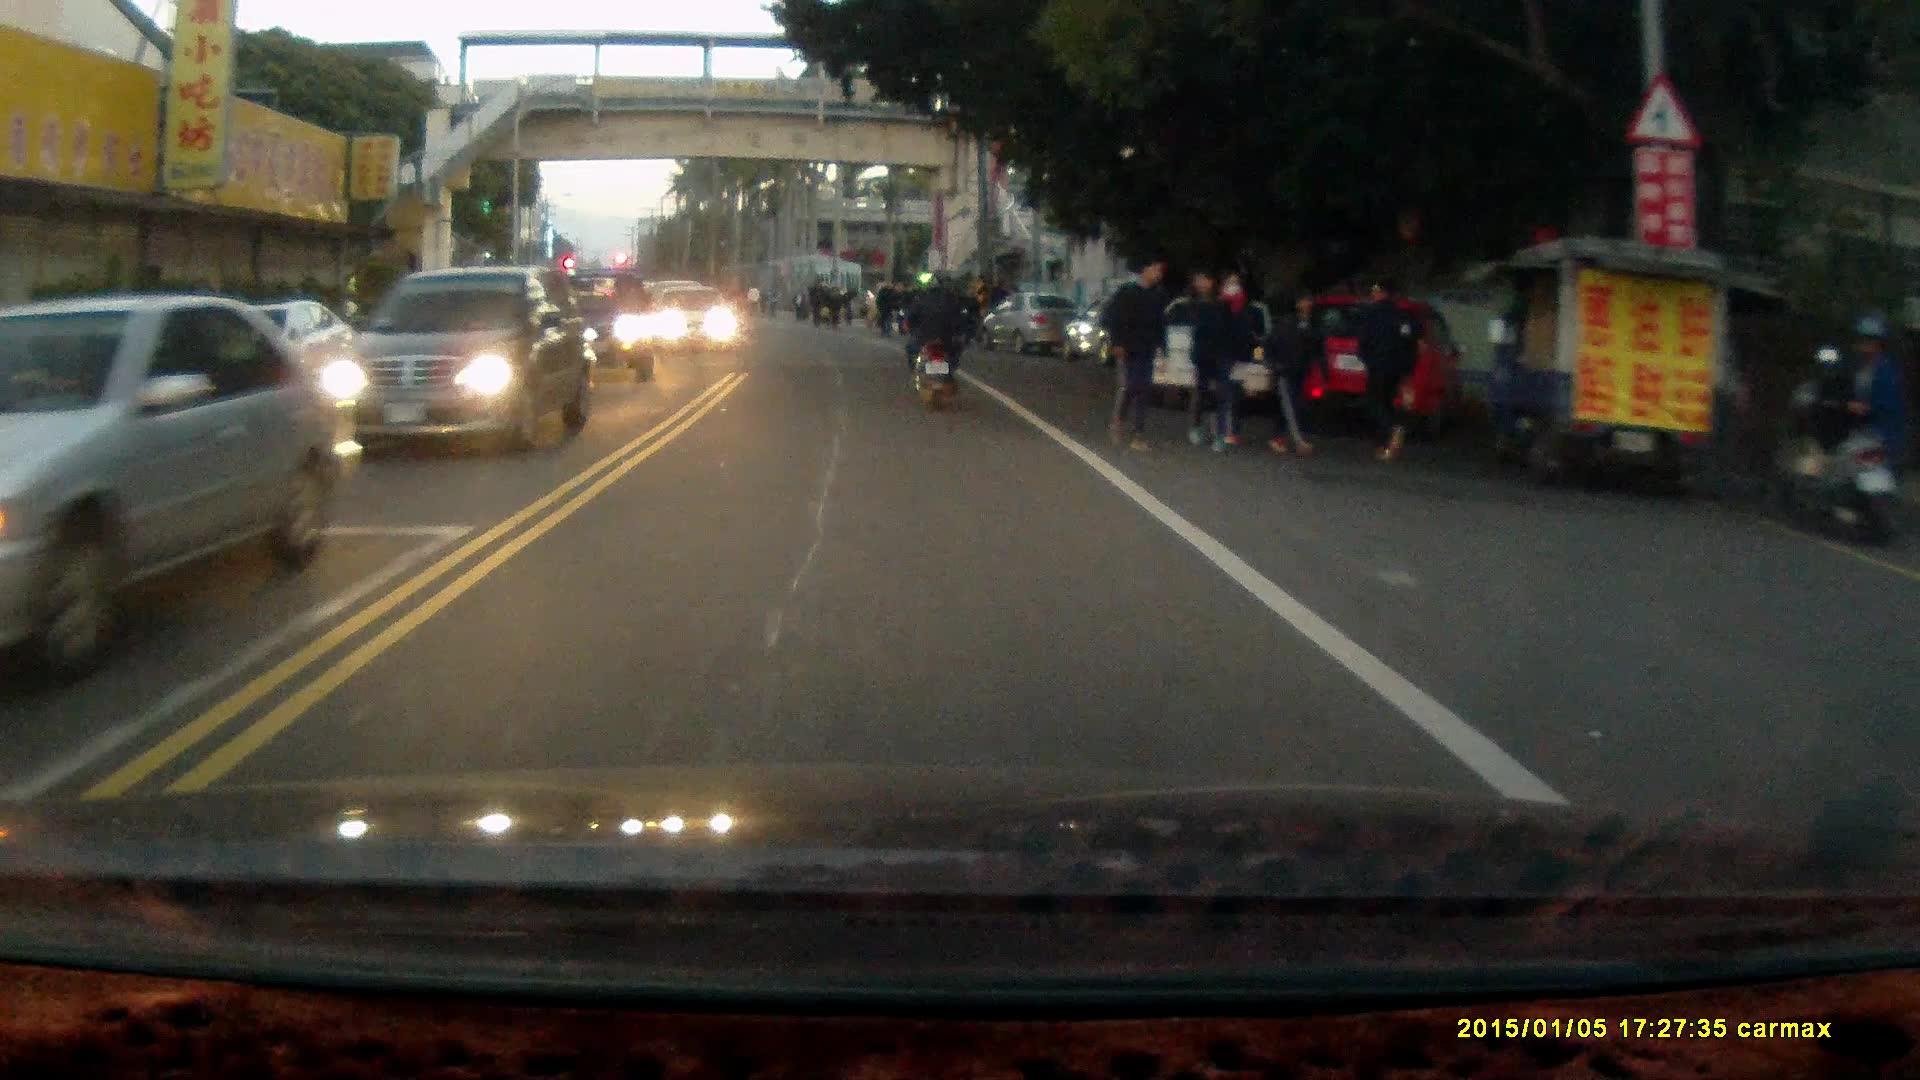pedestrian: (1099, 246, 1173, 452), (1837, 311, 1903, 520), (1350, 273, 1419, 463), (1262, 284, 1333, 456), (1181, 259, 1243, 453), (1207, 269, 1269, 451)
rider: (896, 272, 967, 413)
vehicle: (2, 293, 332, 696), (337, 264, 594, 455), (1265, 293, 1462, 440), (1141, 292, 1341, 428), (529, 271, 659, 388), (982, 293, 1083, 356), (657, 286, 746, 356)
